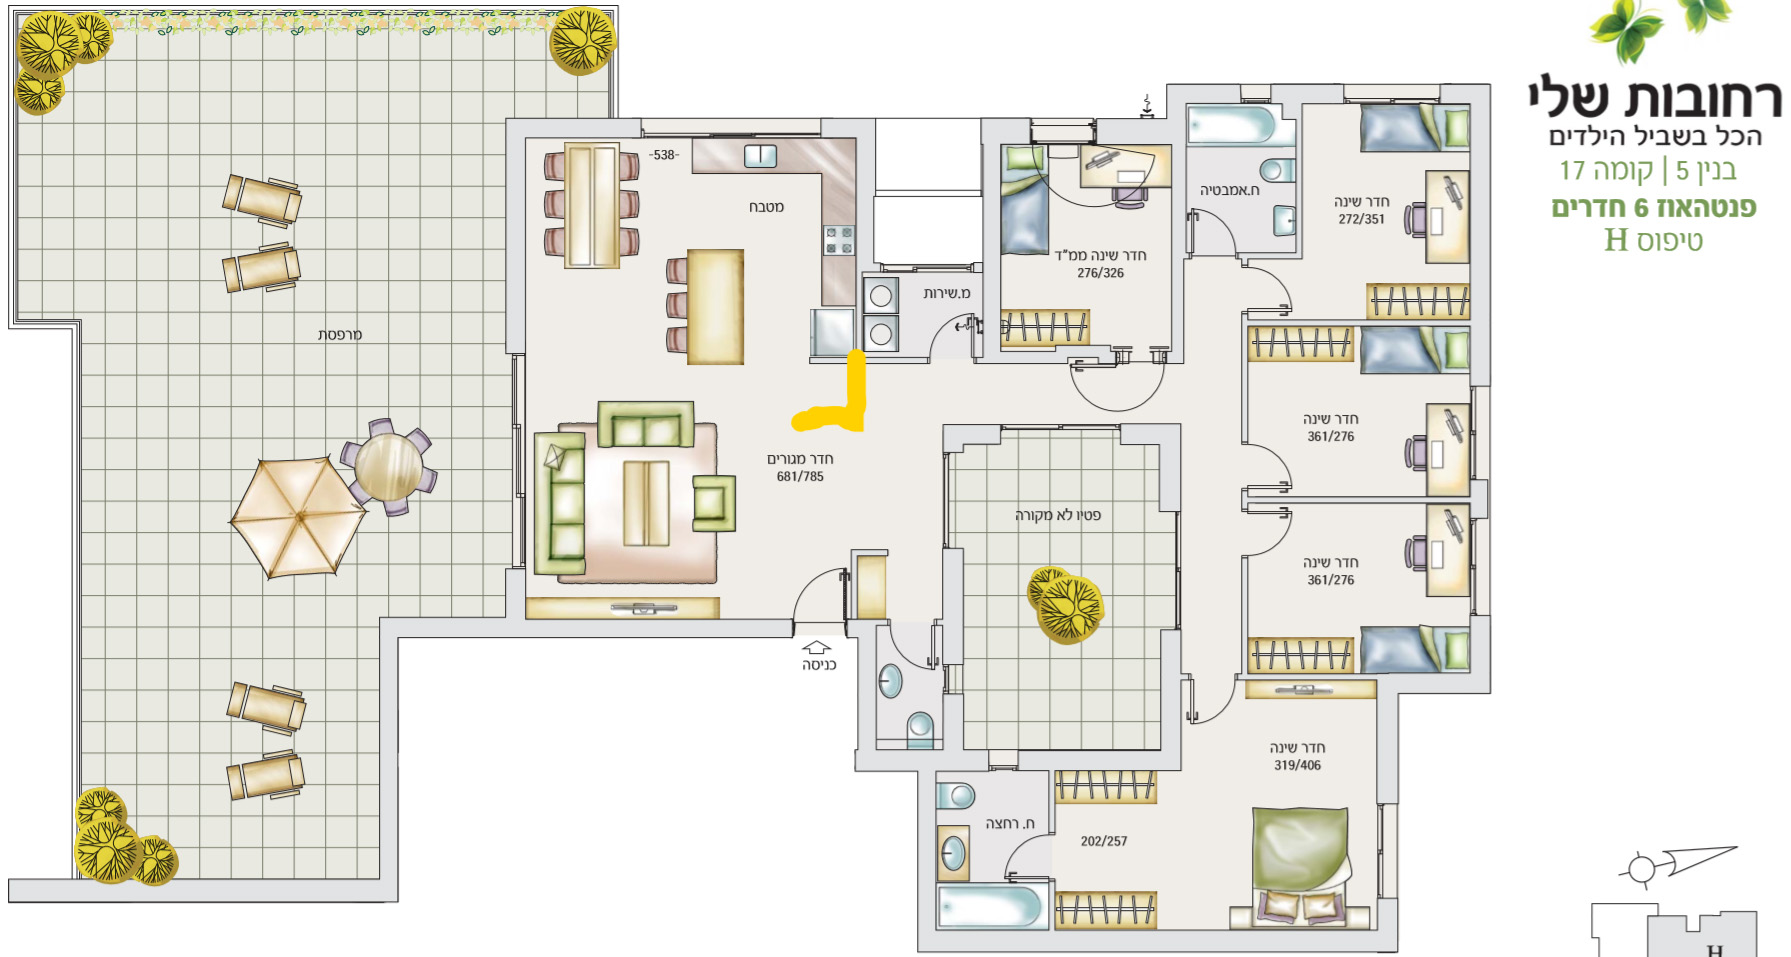door: (1186, 199, 1248, 250), (789, 565, 850, 616), (918, 303, 980, 354), (1247, 263, 1309, 314), (1186, 681, 1243, 731), (1250, 442, 1299, 495), (1246, 505, 1296, 558), (890, 627, 941, 674), (999, 829, 1045, 881)
wall: (378, 617, 792, 640), (7, 880, 380, 904), (378, 640, 398, 903), (503, 140, 526, 354), (505, 118, 641, 139), (855, 117, 873, 265)
window: (507, 353, 527, 570), (641, 117, 820, 137), (1468, 385, 1491, 481), (1376, 803, 1398, 901), (1470, 518, 1491, 615), (1343, 83, 1440, 103), (1240, 84, 1271, 103)
